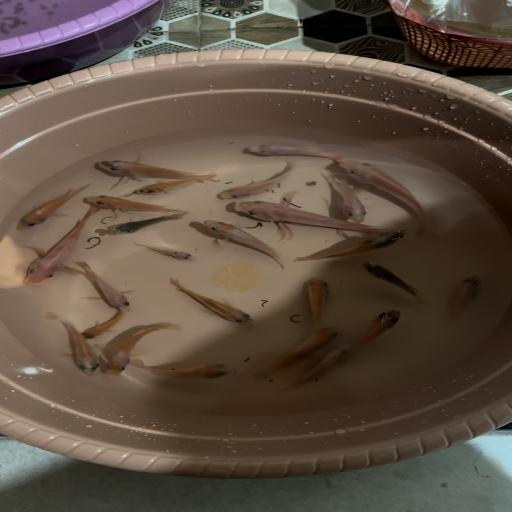nila: (331, 158, 435, 236), (19, 203, 104, 287), (231, 199, 393, 236), (30, 309, 100, 378), (97, 322, 181, 376), (166, 276, 254, 325), (260, 322, 341, 375), (200, 219, 286, 268), (7, 183, 93, 231), (281, 341, 354, 396), (293, 230, 407, 264), (93, 155, 216, 182), (216, 160, 301, 199), (74, 261, 138, 311), (314, 174, 372, 222), (358, 260, 424, 302), (132, 356, 236, 381), (437, 273, 485, 327), (78, 194, 190, 216), (110, 212, 194, 241), (356, 308, 404, 357), (244, 142, 340, 164), (298, 276, 338, 328), (128, 174, 221, 196), (80, 308, 128, 340), (132, 240, 198, 262)
